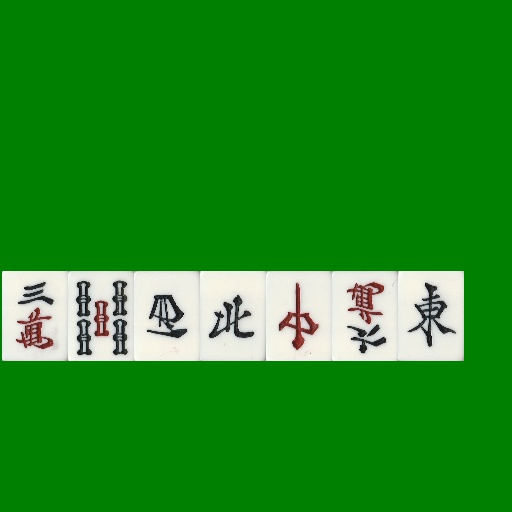3m: (2, 271, 68, 361)
5s: (68, 271, 134, 361)
6m: (332, 271, 398, 361)
east: (398, 271, 464, 361)
north: (200, 271, 266, 361)
tyun: (266, 271, 332, 361)
west: (134, 271, 200, 361)
